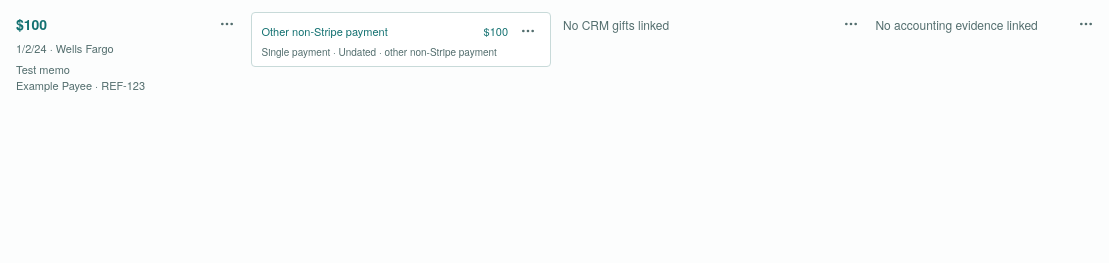
deposit workbench rows › enables all unit-backed gift actions for a manual gift-less payment
Press the mouse on the 1st button named "Card actions" at (226, 24), box x1=214 y1=12 x2=238 y2=36
Press the mouse on the 2nd button named "Card actions" at (528, 31), box x1=516 y1=19 x2=540 y2=43
Press the mouse on the button named "Gift column actions" at (851, 24), box x1=839 y1=12 x2=863 y2=36
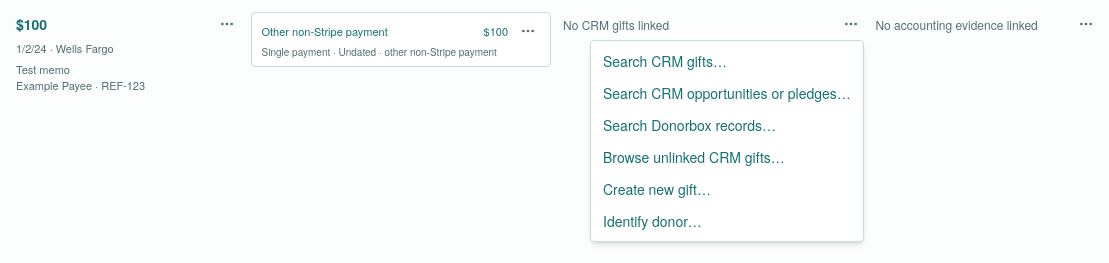
Check: the menu is shown, box x1=590 y1=40 x2=864 y2=242
